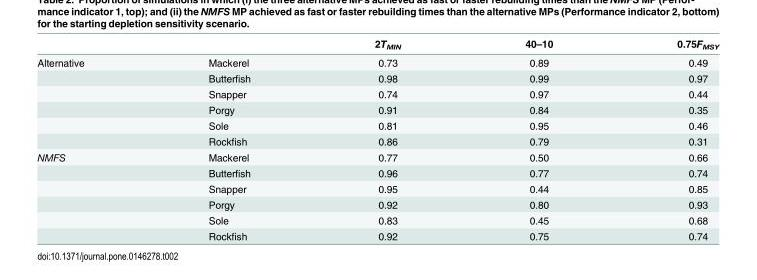table: (36, 36, 718, 241)
table column: (145, 36, 311, 241), (462, 36, 614, 241), (311, 36, 462, 241), (36, 36, 145, 241), (614, 36, 718, 241)
table column header: (36, 36, 718, 53)
table row: (36, 36, 718, 53), (36, 53, 718, 70), (36, 85, 718, 101), (36, 101, 718, 117), (36, 117, 718, 133), (36, 148, 718, 164), (36, 164, 718, 180), (36, 180, 718, 196), (36, 196, 718, 212), (36, 70, 718, 85), (36, 133, 718, 148), (36, 212, 718, 227), (36, 227, 718, 241)
table spanning cell: (36, 53, 145, 148), (36, 148, 145, 241)
